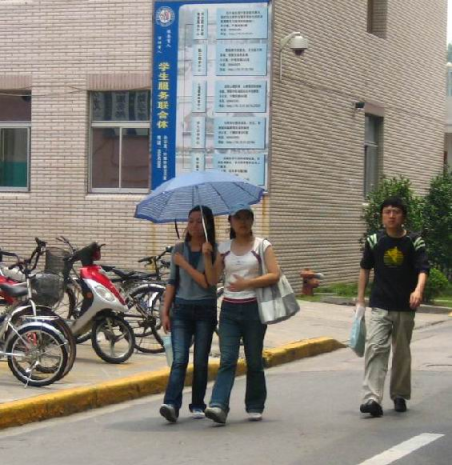person: (363, 196, 426, 417), (220, 205, 279, 424), (170, 205, 215, 420)
